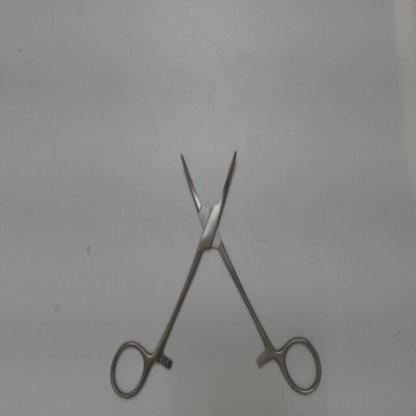Crile Artery Forceps: (103, 136, 329, 410)
